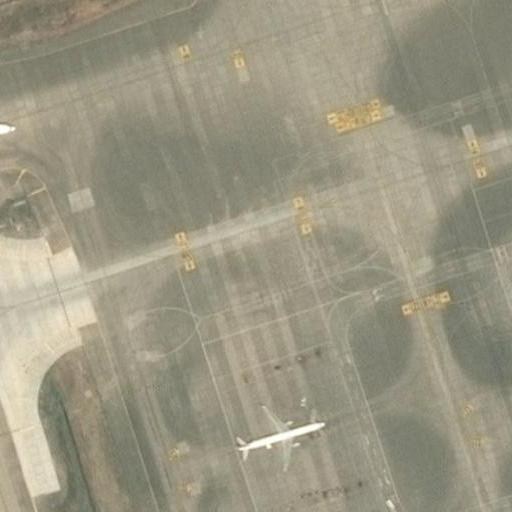Aircraft: (228, 403, 331, 474), (0, 69, 18, 195)
